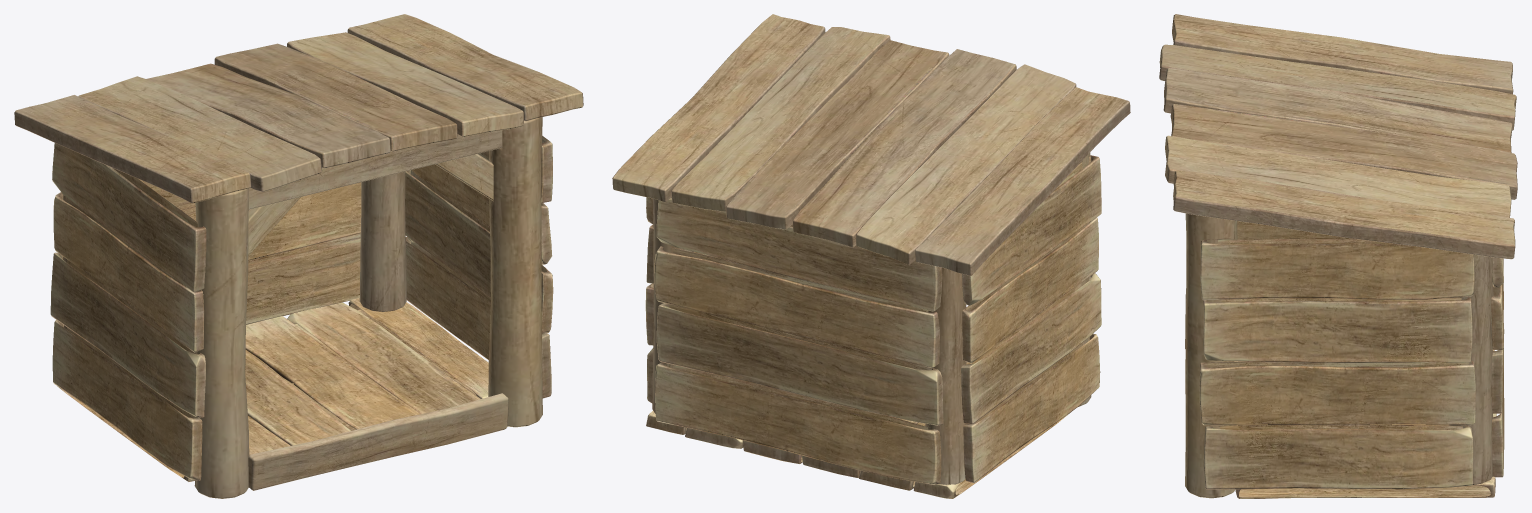
The picture shows the model from 3 angles, left to right: view 1: azimuth 30°, elevation 25°; view 2: azimuth 150°, elevation 25°; view 3: azimuth 270°, elevation 25°; orthographic projection. The views are drawn at different scales.
Parts seen in each view (by area): view 1: SM_Lumber_Storage_01_LOD0; view 2: SM_Lumber_Storage_01_LOD0; view 3: SM_Lumber_Storage_01_LOD0.
Boxes of the visible parts, left/top/right/bottom form: SM_Lumber_Storage_01_LOD0: left=14, top=14, right=583, bottom=498; SM_Lumber_Storage_01_LOD0: left=612, top=14, right=1130, bottom=498; SM_Lumber_Storage_01_LOD0: left=1159, top=14, right=1517, bottom=498.
Size of the model in its own units: 1.83 by 1.48 by 1.5.
2 materials, 2 textured.
